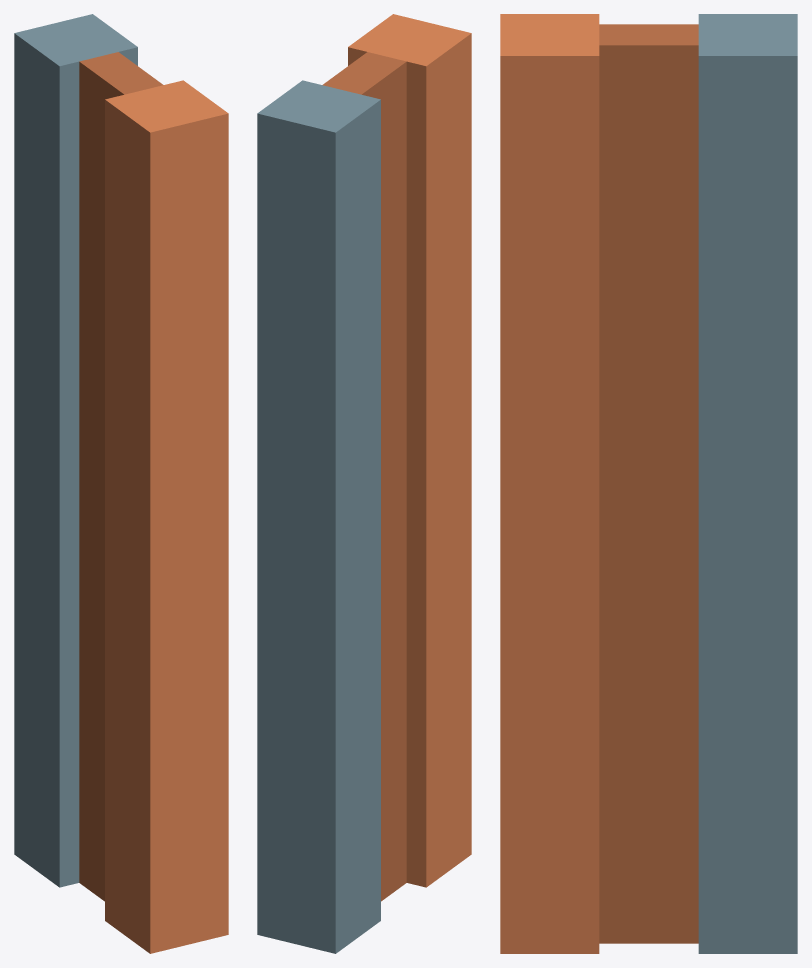
Rendered from wallWoodArch.fbx.
3 views of the same model, side by side, from view 1: azimuth 30°, elevation 25°; view 2: azimuth 150°, elevation 25°; view 3: azimuth 270°, elevation 25° (orthographic). The views are drawn at different scales.
Parts seen in each view (by area): view 1: wallWoodArch; view 2: wallWoodArch; view 3: wallWoodArch.
Part boxes in pixels (<box>): wallWoodArch: <box>14,14,228,953</box>; wallWoodArch: <box>257,14,471,953</box>; wallWoodArch: <box>500,14,797,953</box>.
Size of the model in its own units: 1 by 10 by 3.
